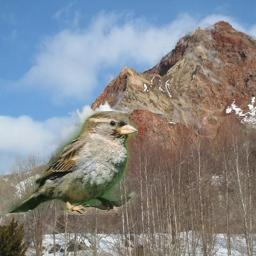Sparrow: (8, 111, 138, 215)
